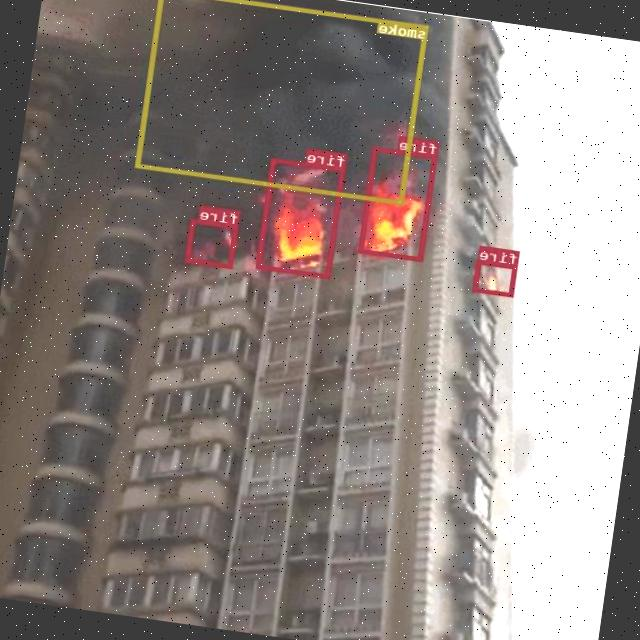fire: (257, 158, 346, 278), (359, 147, 438, 261), (186, 218, 239, 268), (473, 259, 519, 296)
smoke: (135, 0, 430, 204)
